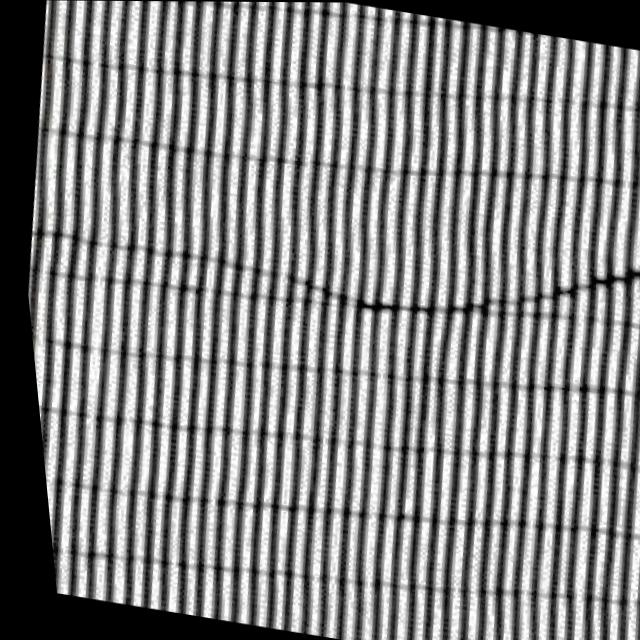Stitch: (257, 173, 640, 382)
